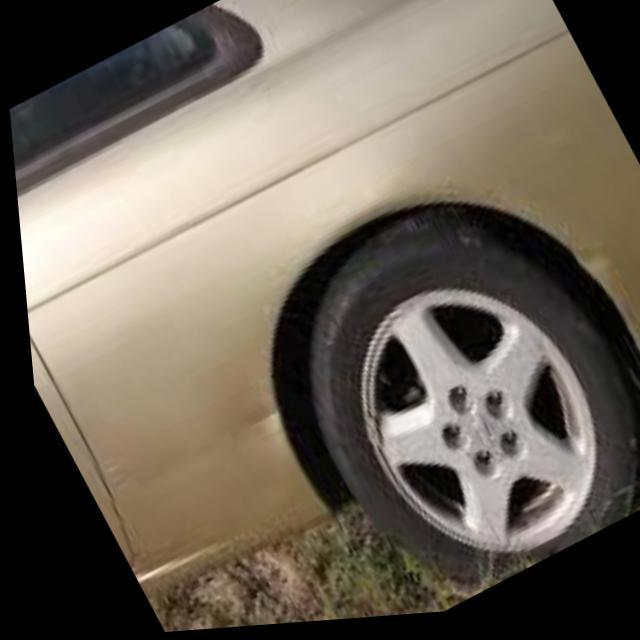scratch: (391, 194, 622, 293), (232, 390, 284, 433)
